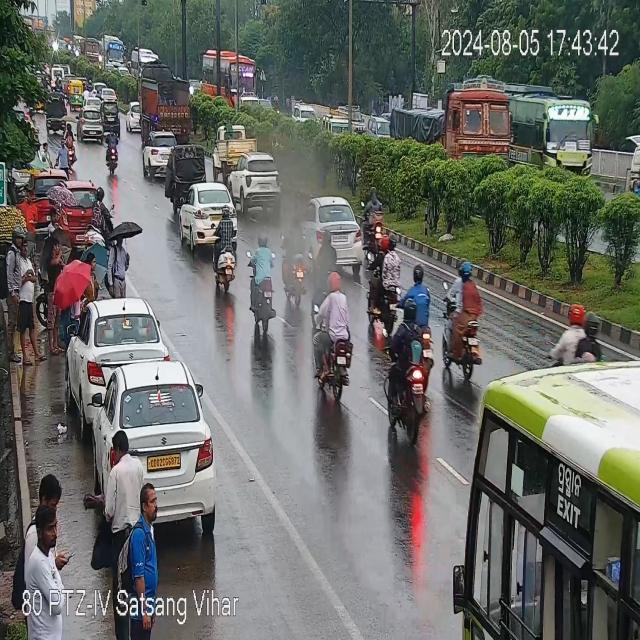2-wheelers: (386, 304, 428, 430), (442, 263, 486, 382), (314, 274, 352, 396), (363, 236, 401, 332), (548, 313, 614, 367), (250, 238, 282, 330), (208, 215, 242, 289), (364, 190, 388, 247), (101, 134, 124, 174), (65, 120, 79, 161)
auto: (169, 147, 209, 206), (213, 125, 255, 167), (44, 92, 66, 126), (68, 76, 87, 107)
bus: (462, 360, 640, 640), (516, 88, 585, 182), (198, 46, 256, 104), (100, 37, 124, 66)
car: (85, 360, 216, 528), (70, 298, 170, 396), (286, 197, 362, 260), (180, 184, 242, 242), (231, 151, 287, 199), (142, 132, 180, 172), (74, 107, 108, 139), (104, 100, 124, 132), (126, 104, 140, 130)
pedestrian: (124, 494, 166, 598), (24, 518, 72, 604), (104, 435, 140, 527), (16, 250, 44, 362), (28, 476, 68, 548), (104, 230, 132, 298), (38, 136, 70, 168), (48, 212, 66, 268), (84, 250, 102, 288)
truck: (375, 84, 508, 162), (139, 62, 192, 140)
